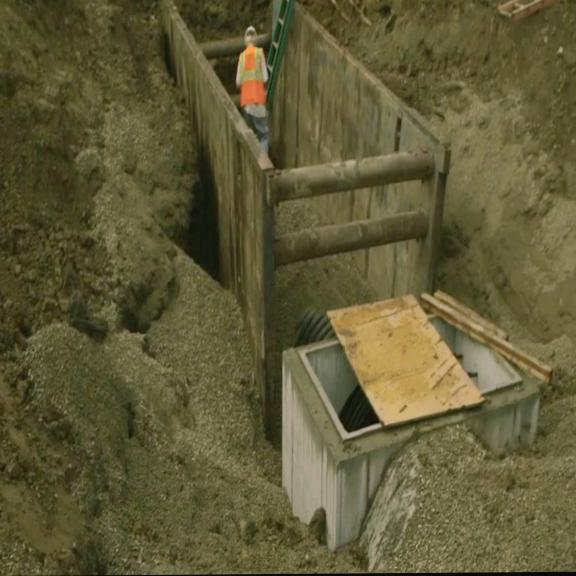safety_vest: (238, 44, 266, 106)
